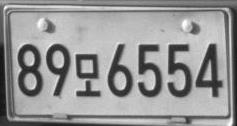4: (194, 43, 223, 97)
5: (166, 43, 192, 97), (137, 43, 162, 97)
6: (106, 43, 133, 97)
8: (16, 43, 43, 97)
9: (45, 42, 70, 97)
모: (74, 53, 100, 97)
